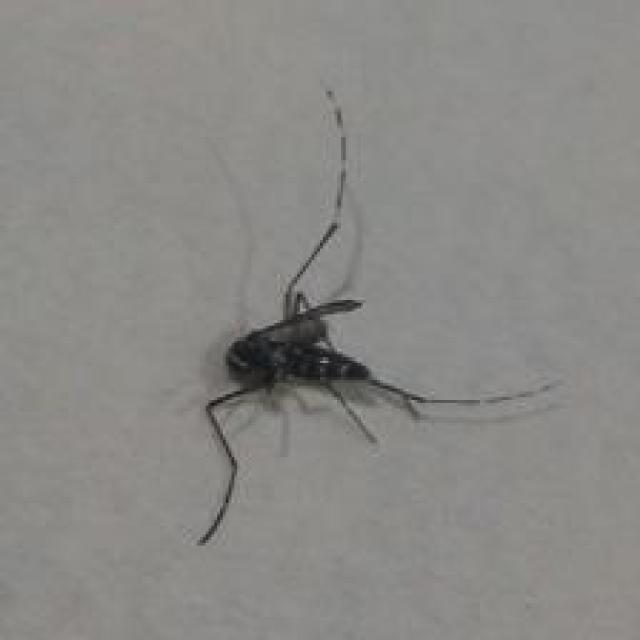Aedes albopictus: (191, 84, 566, 547)
